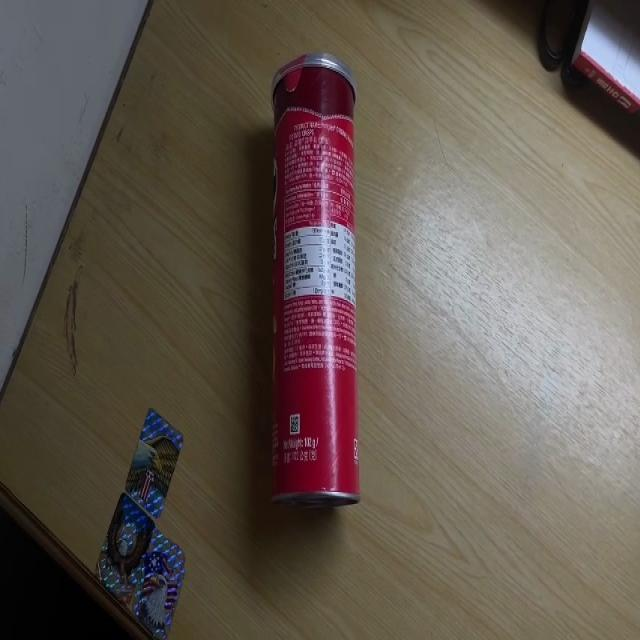Pringles: (271, 52, 361, 505)
